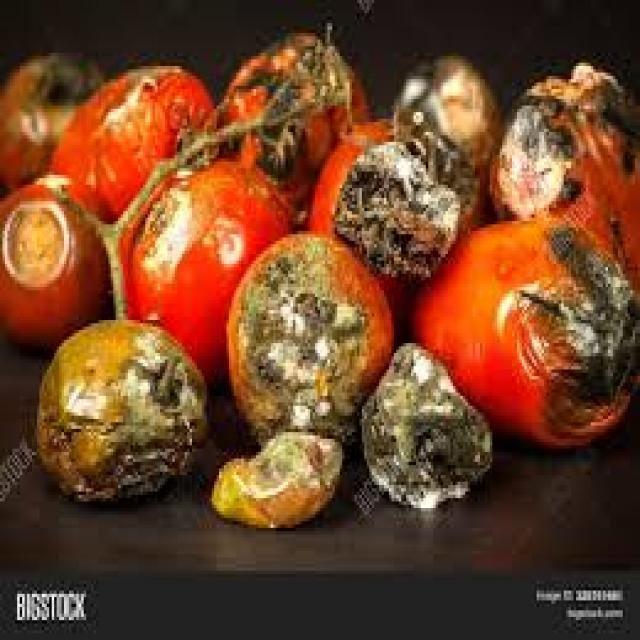organic waste: (408, 214, 638, 446), (121, 145, 300, 389), (485, 59, 637, 304), (302, 115, 472, 330), (224, 231, 389, 445), (34, 317, 204, 501), (47, 59, 214, 231), (217, 23, 369, 211), (357, 337, 492, 508), (0, 172, 111, 353), (332, 135, 473, 277), (389, 49, 497, 228), (0, 46, 103, 184), (204, 426, 342, 521)
